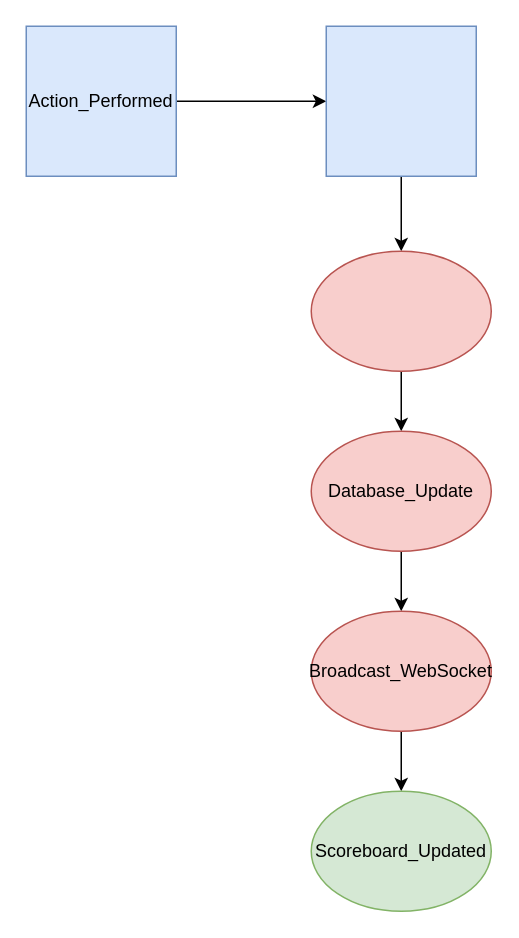
The diagram is 519 pixels wide and 938 high, and some of its shapes have lost their labels. The centre of each missing label's shape, as x and y in pixels:
"API_Call" belongs at (400,100).
"Backend_Validation" belongs at (400,310).
